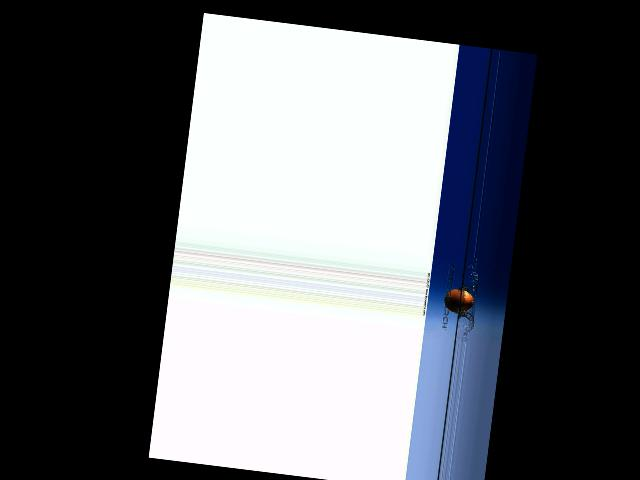egg: (443, 287, 474, 315)
